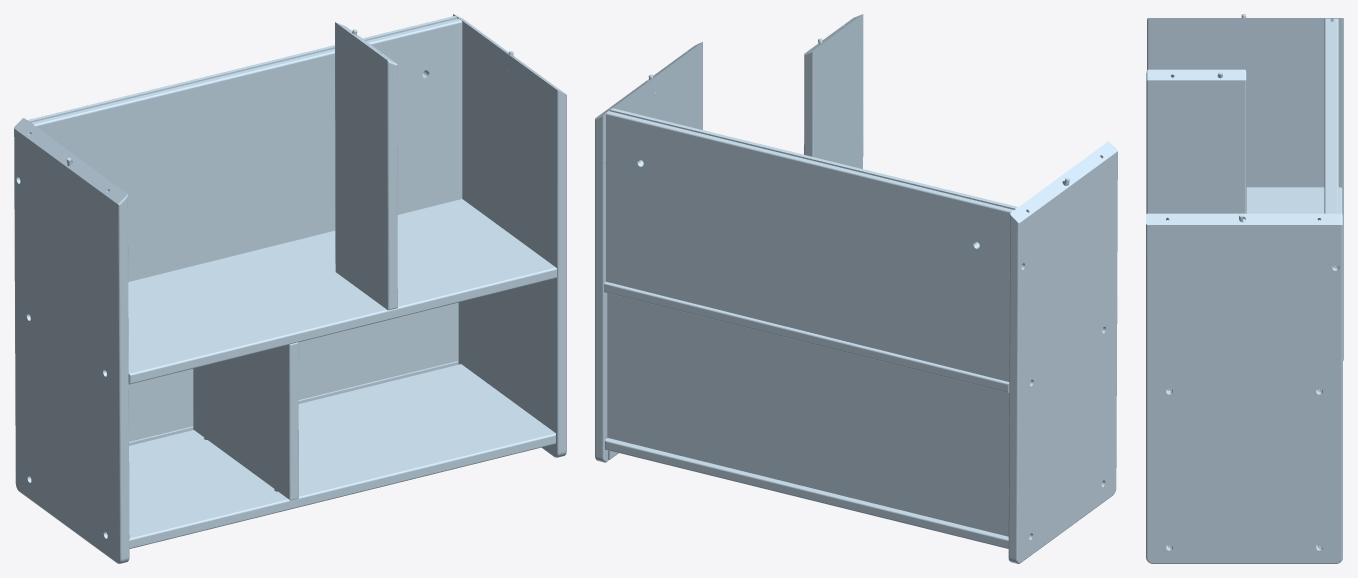
Rendered from step7.glb.
3 renders of one model, left to right at view 1: azimuth 30°, elevation 25°; view 2: azimuth 150°, elevation 25°; view 3: azimuth 270°, elevation 25°, orthographic. The views are drawn at different scales.
Visible parts, largest first — view 1: 1; view 2: 1; view 3: 1.
Boxes of the visible parts, x1,y1,x2,y2 form: 1: (14, 14, 566, 563); 1: (595, 14, 1117, 563); 1: (1146, 14, 1343, 563).
Size of what is drawn, in the model's own units: 3.22 by 3.03 by 1.31.
